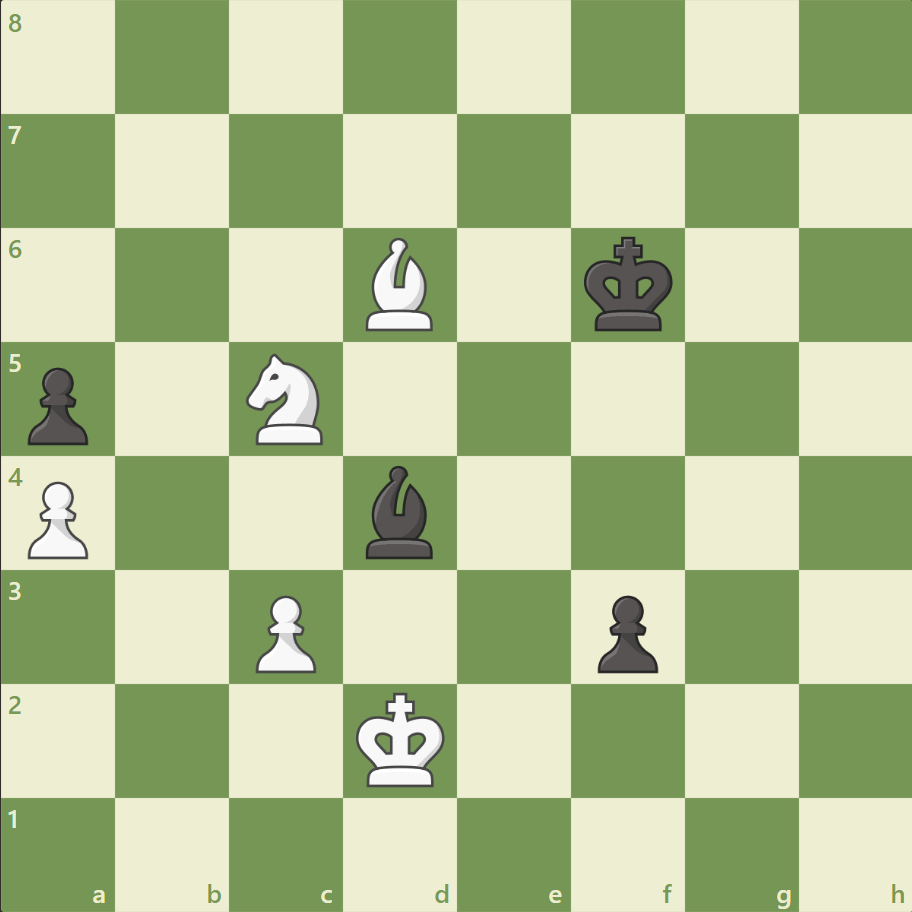B: (358, 233, 442, 336)
K: (351, 685, 451, 793)
N: (238, 348, 335, 450)
P: (20, 473, 95, 564), (247, 586, 322, 677)
b: (358, 460, 442, 563)
k: (579, 231, 679, 339)
p: (20, 359, 95, 450), (588, 586, 662, 677)
